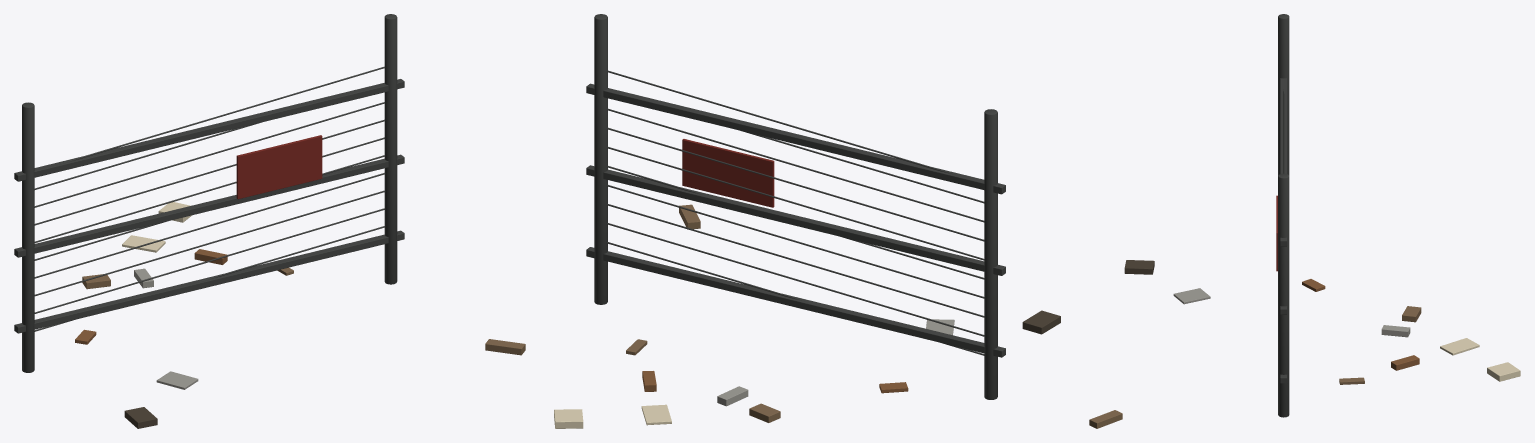
The model's file is dz_barricade_chainlink_fence_premium.glb.
3 views of the same model, side by side, from view 1: azimuth 30°, elevation 25°; view 2: azimuth 150°, elevation 25°; view 3: azimuth 270°, elevation 25° (orthographic). The views are drawn at different scales.
Visible parts, largest first — view 1: fence_access_interdit, chainlink_rail_0.35, chainlink_rail_1.55, chainlink_post_1.5, chainlink_post_-1.5, chainlink_rail_0.95, chain_wire_1, chain_wire_2, chain_wire_3, chain_wire_7, chain_wire_9, chain_wire_5 (+5 smaller); view 2: chainlink_rail_0.35, chainlink_rail_0.95, chainlink_rail_1.55, fence_access_interdit, chainlink_post_-1.5, chainlink_post_1.5, chain_wire_6, chain_wire_2, chain_wire_3, chain_wire_5, chain_wire_7, chain_wire_1 (+7 smaller); view 3: chainlink_post_1.5, chainlink_post_-1.5, chainlink_rail_1.55, fence_debris_09, fence_debris_07, fence_debris_05.
Boxes of the visible parts, x1,y1,x2,y2 form: fence_access_interdit: [236, 135, 322, 199]; chainlink_rail_0.35: [14, 230, 404, 333]; chainlink_rail_1.55: [14, 79, 404, 181]; chainlink_post_1.5: [384, 14, 397, 284]; chainlink_post_-1.5: [22, 102, 34, 372]; chainlink_rail_0.95: [14, 154, 404, 257]; chain_wire_1: [34, 208, 385, 313]; chain_wire_2: [34, 190, 385, 296]; chain_wire_3: [34, 173, 385, 278]; chain_wire_7: [34, 102, 384, 207]; chain_wire_9: [56, 66, 385, 164]; chain_wire_5: [34, 137, 385, 242]; chainlink_rail_0.35: [586, 247, 1005, 357]; chainlink_rail_0.95: [586, 165, 1005, 275]; chainlink_rail_1.55: [586, 83, 1005, 194]; fence_access_interdit: [682, 139, 774, 207]; chainlink_post_-1.5: [984, 109, 997, 399]; chainlink_post_1.5: [594, 14, 607, 304]; chain_wire_6: [607, 127, 984, 241]; chain_wire_2: [607, 204, 984, 317]; chain_wire_3: [607, 185, 984, 298]; chain_wire_5: [607, 147, 984, 260]; chain_wire_7: [607, 108, 984, 222]; chain_wire_1: [607, 223, 984, 336]; chainlink_post_1.5: [1278, 173, 1289, 417]; chainlink_post_-1.5: [1278, 14, 1289, 175]; chainlink_rail_1.55: [1280, 78, 1287, 246]; fence_debris_09: [1487, 362, 1520, 381]; fence_debris_07: [1124, 260, 1154, 274]; fence_debris_05: [1440, 338, 1479, 355].
Size of the model in its own units: 3.36 by 2.1 by 3.43.
